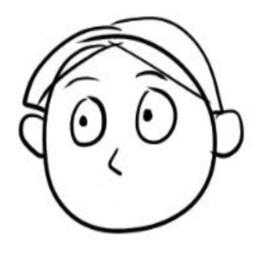ear: (210, 107, 244, 159), (18, 112, 48, 159)
eye: (132, 87, 179, 147), (67, 93, 107, 155)
eyebrow: (126, 65, 168, 83), (60, 72, 100, 88)
pointy_nose: (107, 146, 125, 181)
